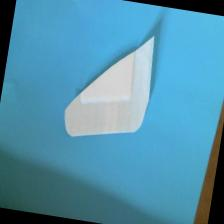Cut: (60, 17, 161, 150)
